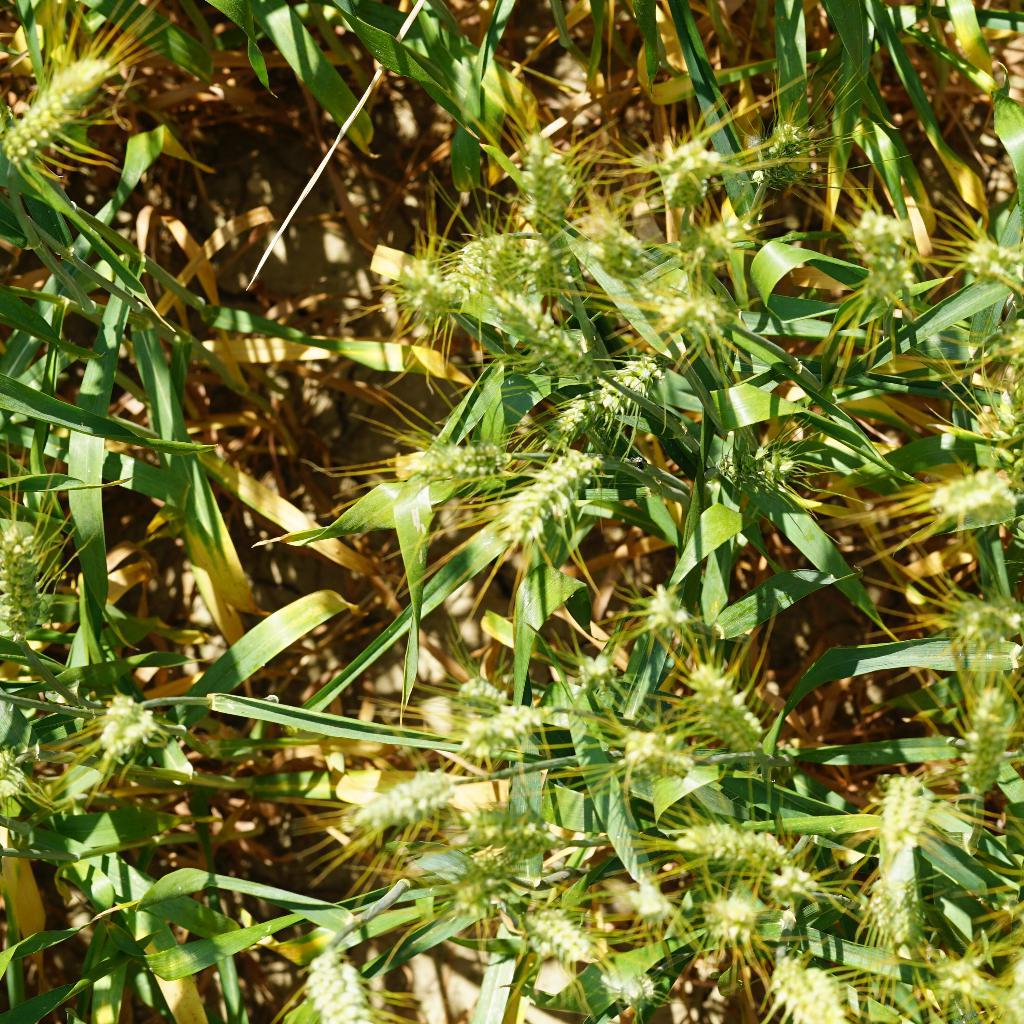0-0: (4, 41, 148, 169), (537, 343, 668, 436), (496, 440, 602, 541), (671, 657, 773, 757), (494, 291, 595, 384), (925, 447, 1023, 542), (486, 133, 582, 225), (384, 428, 530, 488), (672, 810, 799, 878), (862, 755, 929, 879), (959, 680, 1021, 806), (298, 948, 397, 1024), (456, 791, 563, 860), (604, 716, 694, 791), (440, 692, 544, 755), (0, 516, 49, 649), (361, 772, 462, 834), (643, 129, 713, 215), (647, 275, 733, 340), (392, 260, 481, 322), (93, 686, 164, 763), (768, 967, 863, 1024), (837, 200, 905, 279), (736, 122, 815, 189), (462, 234, 548, 294), (515, 901, 600, 961), (971, 385, 1024, 480), (941, 600, 1024, 660), (563, 631, 630, 705), (955, 231, 1024, 302), (922, 946, 996, 1011), (617, 580, 694, 638), (733, 443, 813, 496), (877, 871, 931, 949), (604, 963, 673, 1024), (701, 882, 759, 948), (616, 884, 679, 938), (445, 658, 503, 716), (444, 869, 511, 918), (593, 225, 653, 276), (684, 220, 737, 271)
